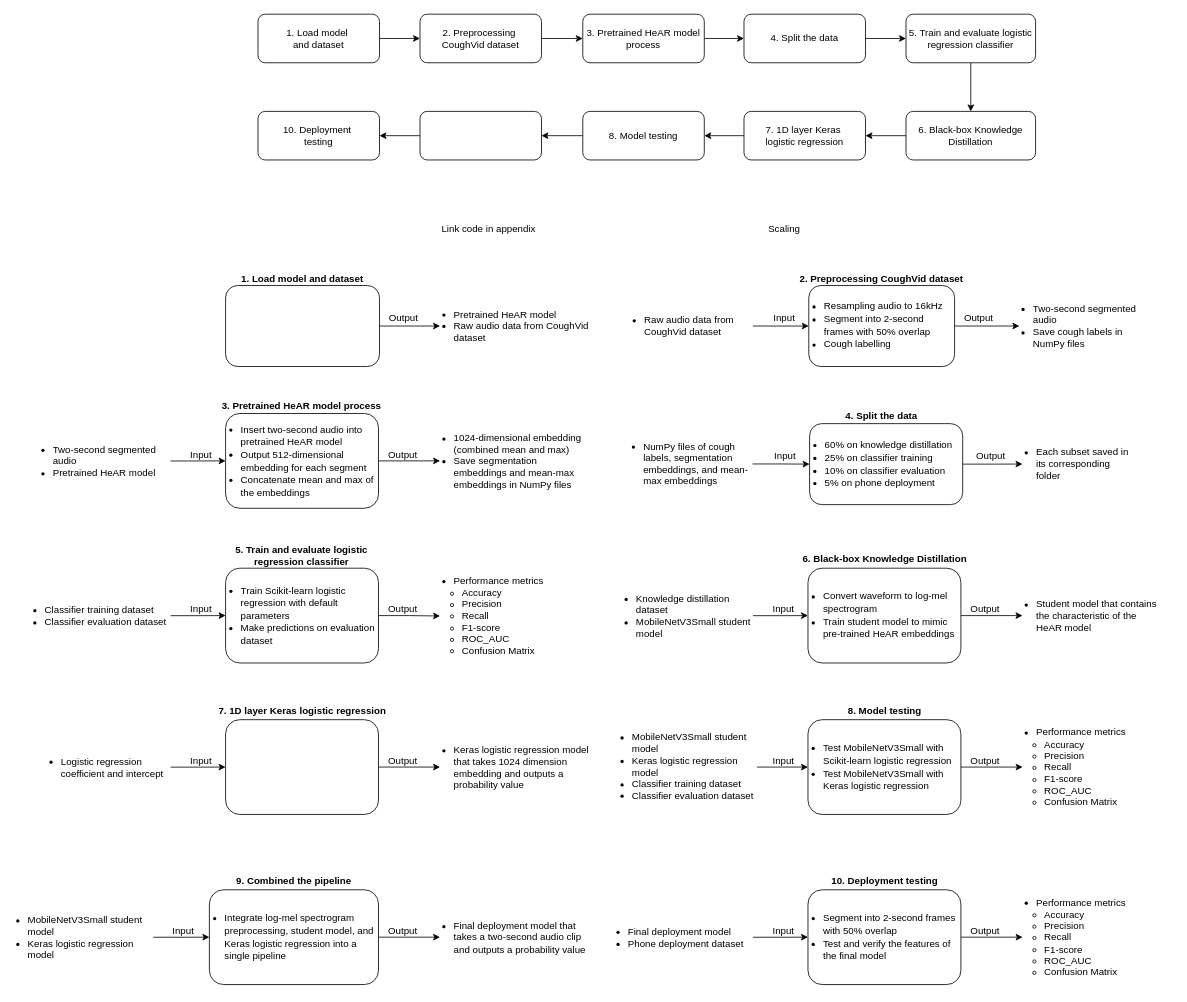
Image size: 1187x1002. Some labels were removed from this diagram. Here are the shapes that lost their labels. From the top down, the centre of each, then its label:
(480,135): 9. Combined the pipeline for deployment
(302,326): Load pretrained HeAR model from Hugging Face Download and load CoughVid dataset
(302,766): Build 1D Keras model to replicate Scikit-learn logistic regression
